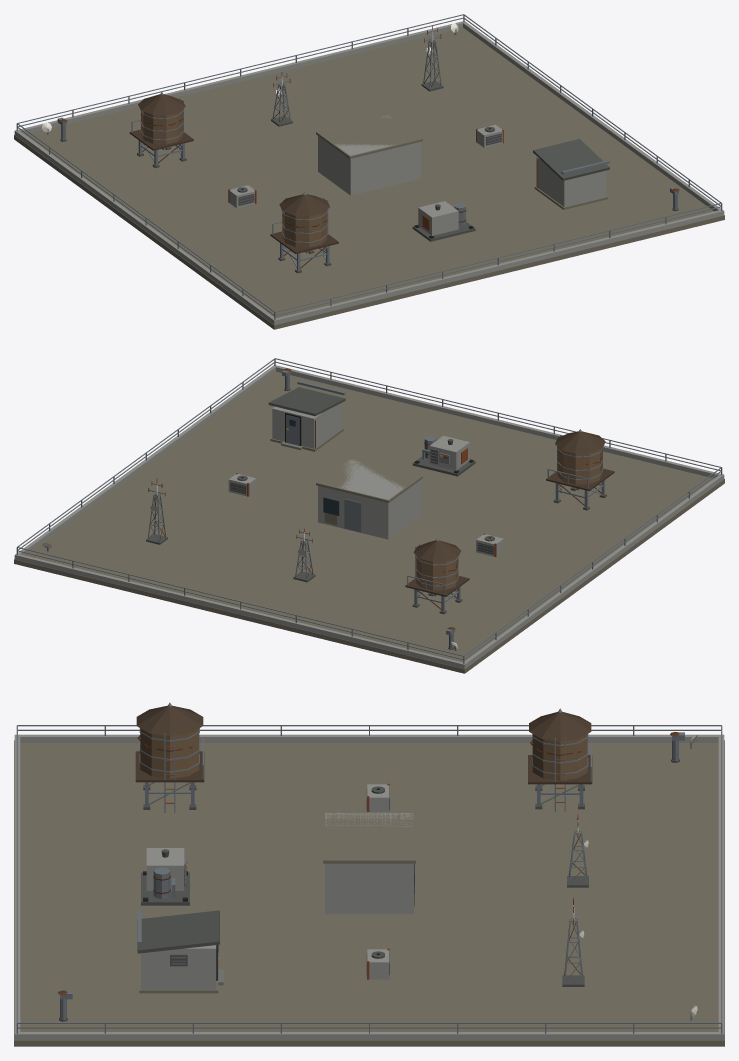
File: tw_slab_32_crown.glb
3 views of the same model, one above another, from view 1: azimuth 30°, elevation 25°; view 2: azimuth 150°, elevation 25°; view 3: azimuth 270°, elevation 25° (orthographic). The views are drawn at different scales.
Visible parts, largest first — view 1: tw_slab_32_crown; view 2: tw_slab_32_crown; view 3: tw_slab_32_crown.
Part boxes in pixels (<box>): tw_slab_32_crown: <box>14,14,724,329</box>; tw_slab_32_crown: <box>14,358,724,673</box>; tw_slab_32_crown: <box>14,702,724,1046</box>.
Size of the model in its own units: 32.06 by 5.1 by 32.06.
3 materials, 3 textured.
